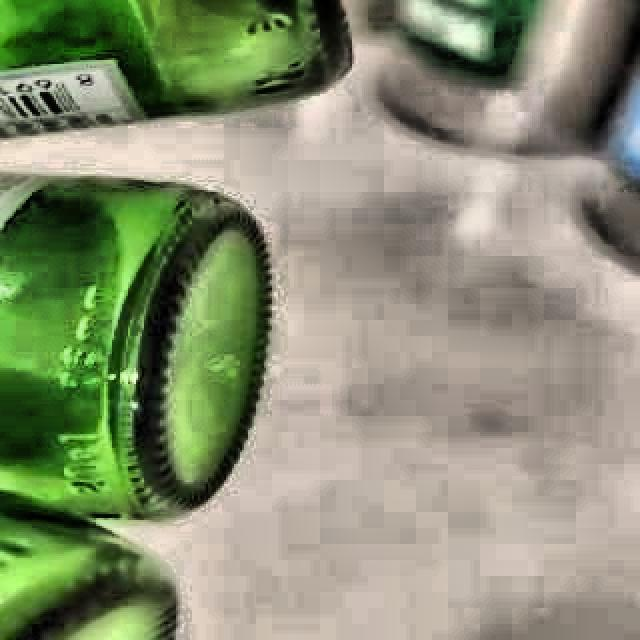glass: (0, 175, 269, 640)
